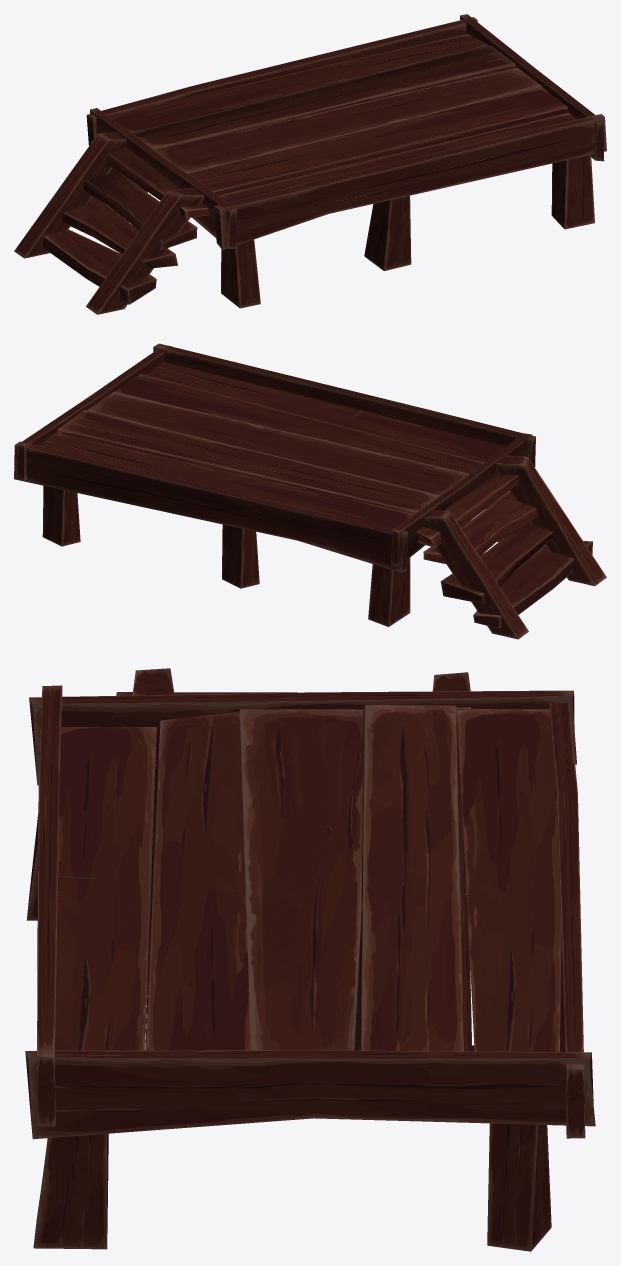
The model's file is SM_PROP_foundation_wood_03.fbx.
3 views of the same model, one above another, from view 1: azimuth 30°, elevation 25°; view 2: azimuth 150°, elevation 25°; view 3: azimuth 270°, elevation 25° (orthographic). The views are drawn at different scales.
Visible parts, largest first — view 1: SM_PROP_foundation_wood_03; view 2: SM_PROP_foundation_wood_03; view 3: SM_PROP_foundation_wood_03.
Boxes of the visible parts, x1,y1,x2,y2 form: SM_PROP_foundation_wood_03: (14,14,606,314); SM_PROP_foundation_wood_03: (14,343,606,639); SM_PROP_foundation_wood_03: (25,668,595,1251).
Bounding box in the file's own units: 521 × 105 × 266.
